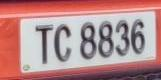3: (114, 16, 132, 62)
6: (130, 15, 149, 60)
8: (78, 18, 98, 67), (97, 16, 116, 65)
C: (53, 20, 75, 68)
T: (32, 19, 55, 71)
